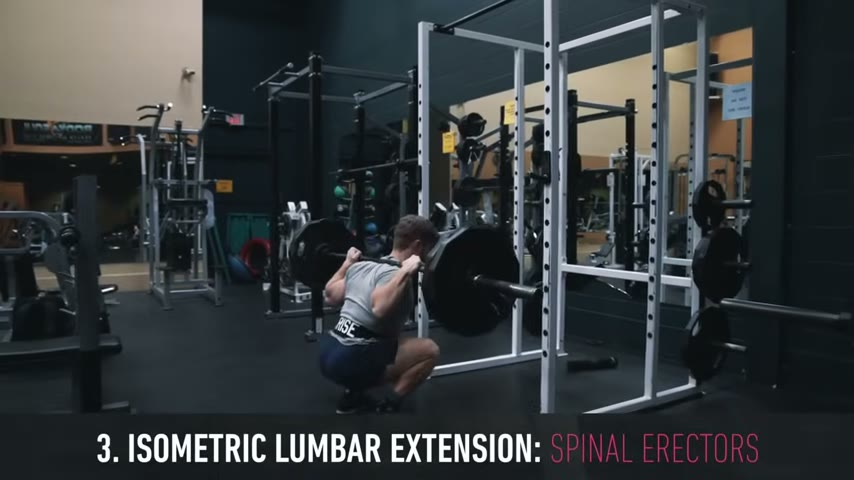barbell_plate_side: (460, 213, 528, 424), (286, 210, 357, 375)
